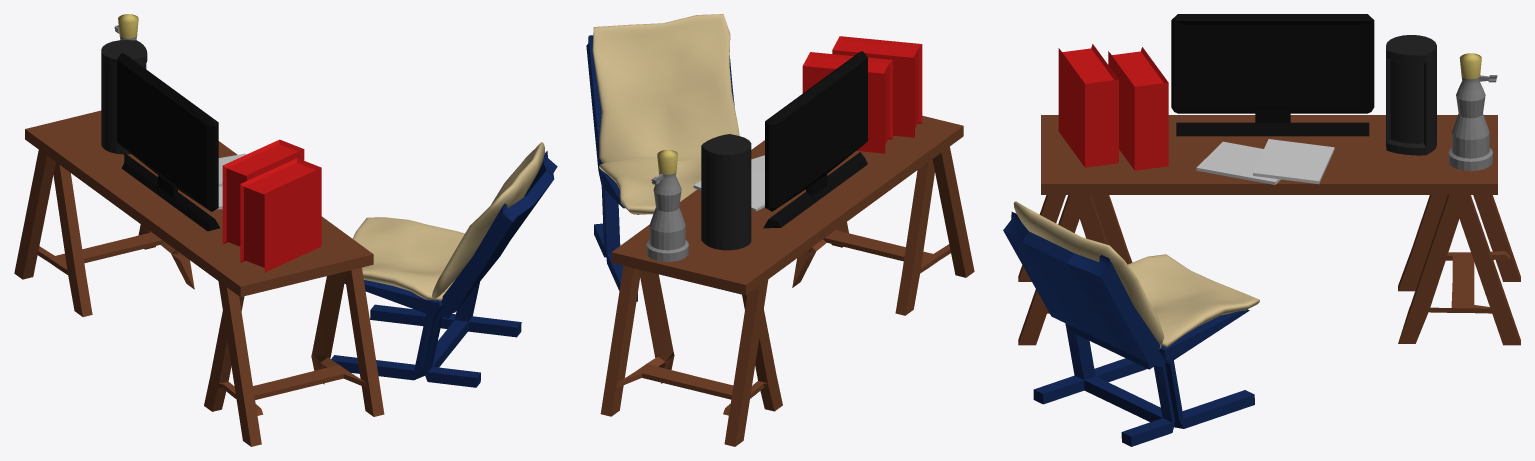
Rendered from ComputerDesk.dae.
The picture shows the model from 3 angles, left to right: view 1: azimuth 30°, elevation 25°; view 2: azimuth 150°, elevation 25°; view 3: azimuth 270°, elevation 25°; orthographic projection. The views are drawn at different scales.
Visible parts, largest first — view 1: polySurface8_ncl1_1; view 2: polySurface8_ncl1_1; view 3: polySurface8_ncl1_1.
Boxes of the visible parts, left/top/right/bottom form: polySurface8_ncl1_1: left=14, top=14, right=557, bottom=446; polySurface8_ncl1_1: left=586, top=14, right=974, bottom=446; polySurface8_ncl1_1: left=1003, top=14, right=1520, bottom=446.
Bounding box in the file's own units: 20.66 × 15.51 × 25.3.
